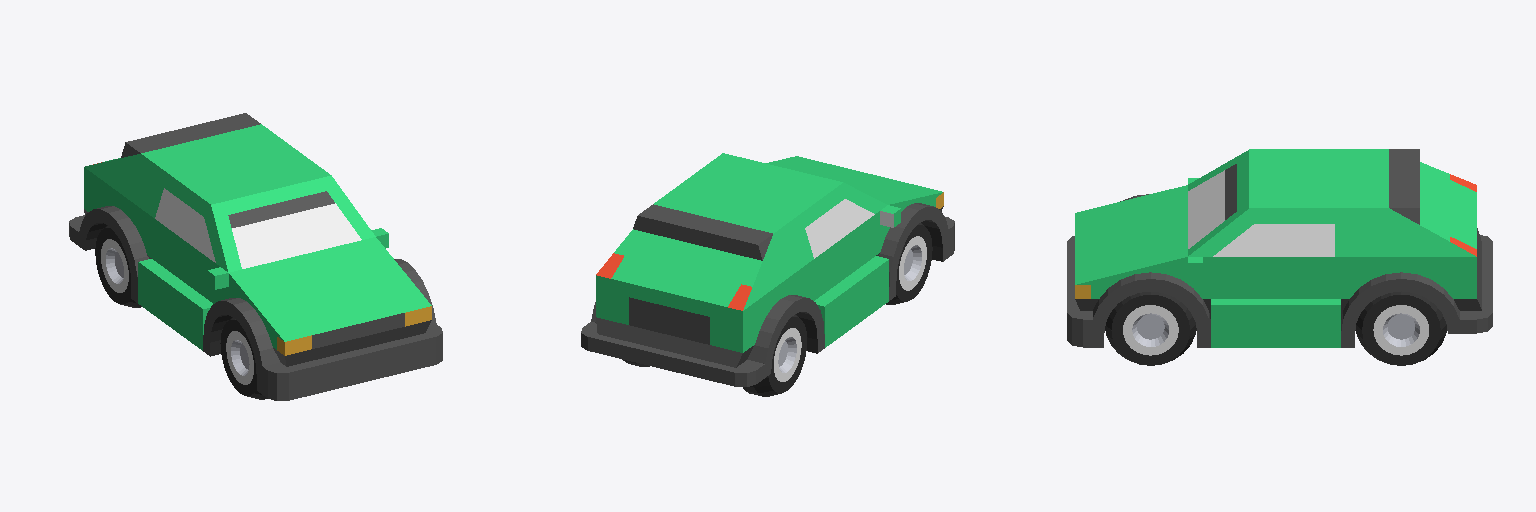
The model's file is hatchbackSports.obj.
The picture shows the model from 3 angles: view 1: azimuth 30°, elevation 25°; view 2: azimuth 150°, elevation 25°; view 3: azimuth 270°, elevation 25°; orthographic projection.
Visible parts, largest first — view 1: body, wheel_frontRight, wheel_backRight; view 2: body, wheel_backRight, wheel_frontRight; view 3: body, wheel_backLeft, wheel_frontLeft.
Part boxes in pixels (x1,y1,x2,y2): body: (69,113,442,400); wheel_frontRight: (220,317,267,399); wheel_backRight: (95,225,141,307); body: (581,153,954,386); wheel_backRight: (743,314,806,396); wheel_frontRight: (886,223,932,304); body: (1067,149,1492,347); wheel_backLeft: (1356,291,1446,365); wheel_frontLeft: (1105,292,1196,365).
Size of the model in its own units: 1.3 by 1.1 by 2.75.